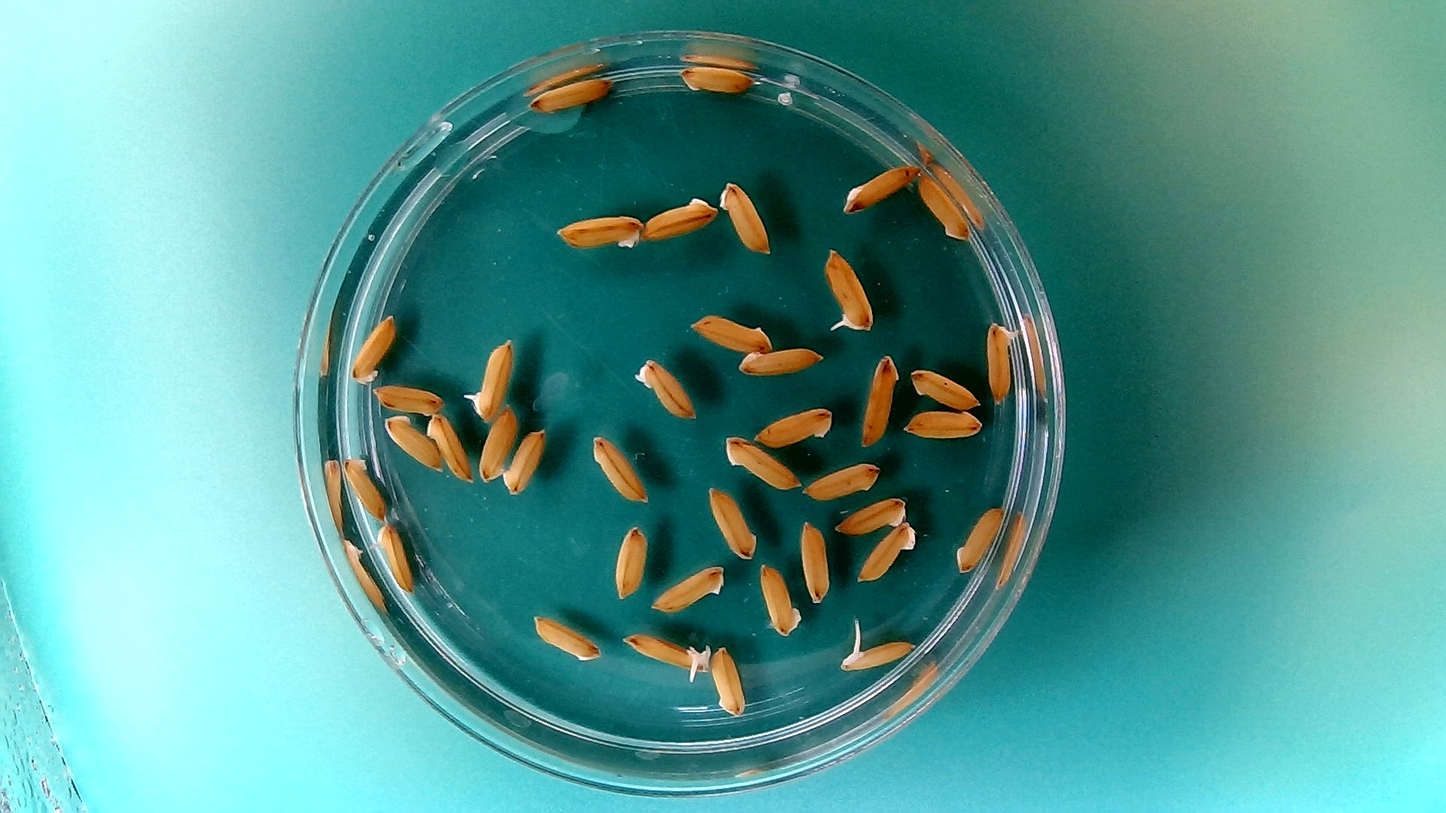no: (720, 431, 801, 491), (715, 177, 773, 257), (588, 430, 649, 506), (630, 355, 698, 422), (840, 159, 921, 215), (649, 560, 728, 614), (858, 350, 901, 449), (916, 168, 972, 242), (704, 483, 757, 561), (750, 401, 836, 449), (855, 520, 918, 585), (638, 193, 718, 242), (554, 209, 644, 252), (952, 501, 1005, 574), (529, 611, 603, 663), (686, 309, 773, 352), (526, 72, 615, 114), (756, 560, 803, 638), (383, 412, 443, 473), (348, 312, 398, 385), (801, 458, 882, 503), (425, 410, 473, 485), (475, 403, 518, 486), (501, 424, 549, 497), (909, 365, 983, 410), (337, 453, 385, 522), (373, 518, 416, 595), (736, 342, 825, 379), (833, 492, 908, 535), (610, 522, 649, 602), (797, 516, 832, 605), (709, 643, 749, 720), (371, 380, 448, 417), (901, 406, 984, 440), (676, 62, 757, 96)
yes: (821, 244, 877, 335), (462, 334, 517, 422), (619, 628, 709, 679), (836, 631, 919, 674), (984, 317, 1018, 406)
